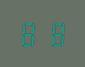eight: (19, 20, 41, 47), (42, 20, 64, 47)
